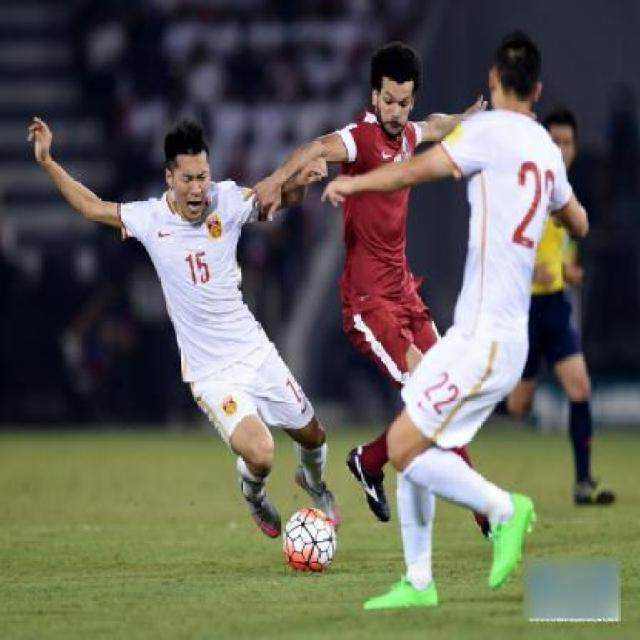Person: (39, 86, 330, 562), (313, 34, 433, 369)
